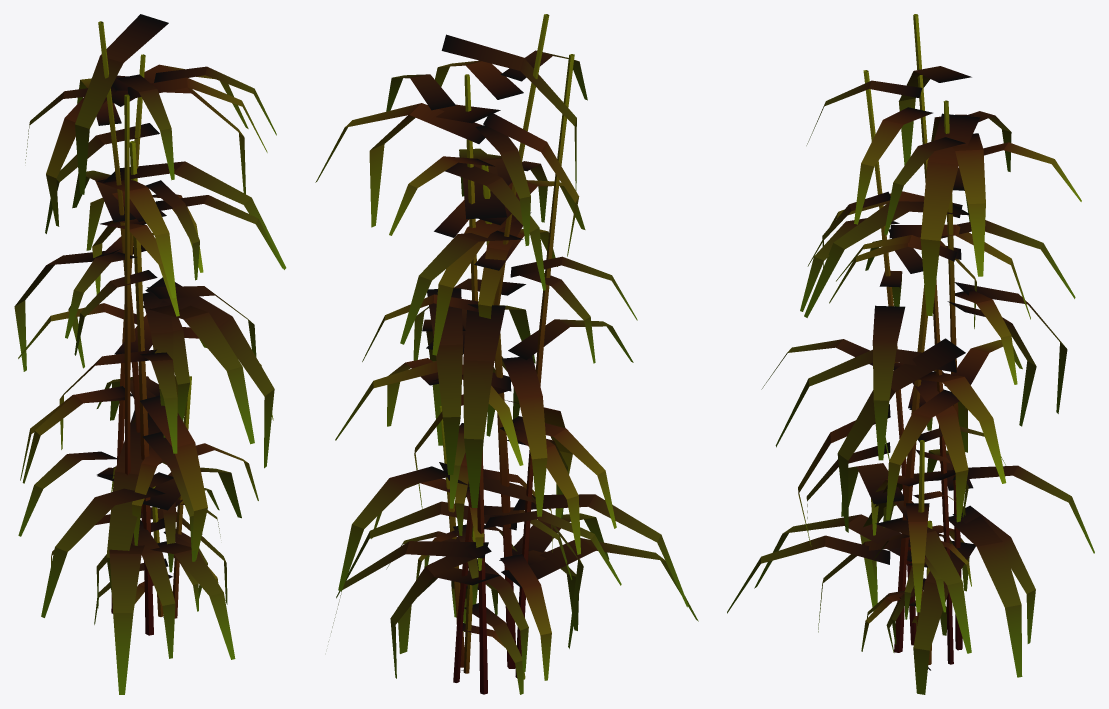
File: bamboo_c_high.glb
The picture shows the model from 3 angles, left to right: view 1: azimuth 30°, elevation 25°; view 2: azimuth 150°, elevation 25°; view 3: azimuth 270°, elevation 25°; orthographic projection. The views are drawn at different scales.
Parts seen in each view (by area): view 1: bamboo_c_high; view 2: bamboo_c_high; view 3: bamboo_c_high.
Boxes of the visible parts, x1,y1,x2,y2 form: bamboo_c_high: (14, 14, 286, 694); bamboo_c_high: (315, 14, 698, 694); bamboo_c_high: (727, 14, 1094, 694).
Size of the model in its own units: 2.55 by 5.48 by 2.96.
1 material, 1 textured.
